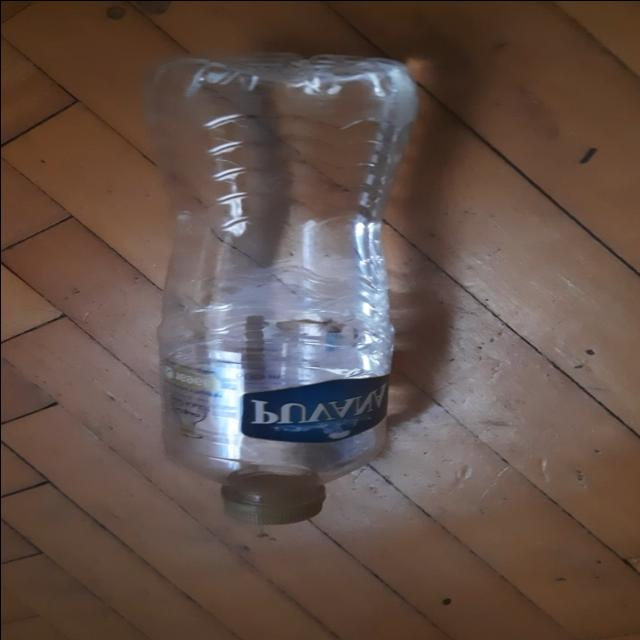Plastic: (143, 48, 417, 524)
